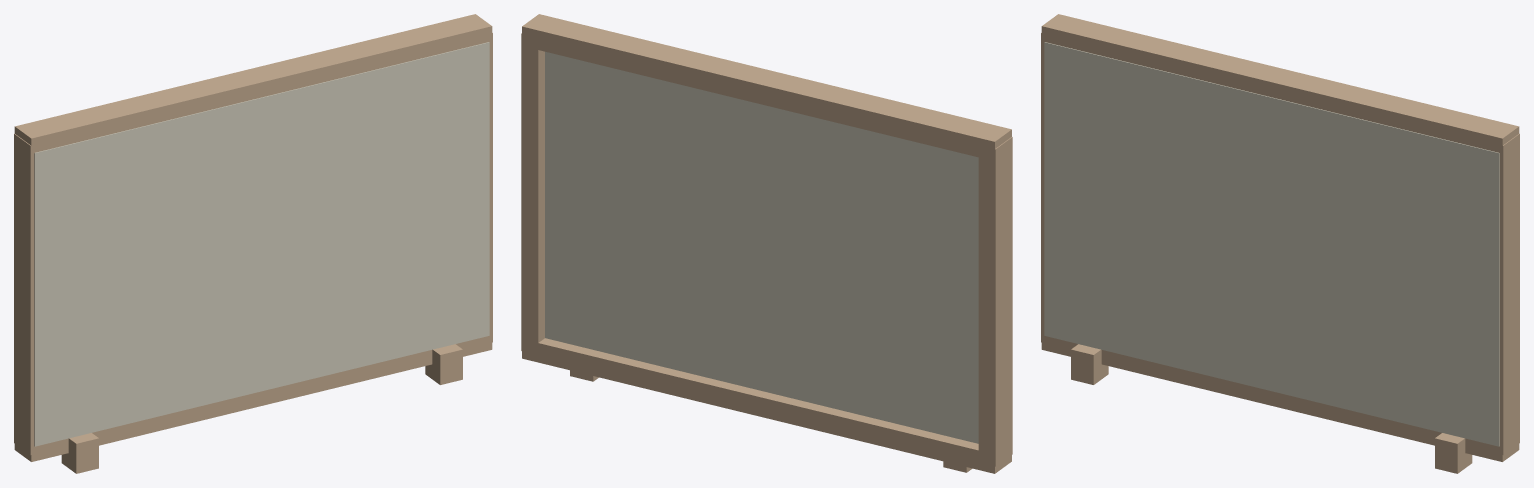
File: answer-sign.glb
3 renders of one model, left to right at view 1: azimuth 30°, elevation 25°; view 2: azimuth 150°, elevation 25°; view 3: azimuth 330°, elevation 25°, orthographic. The views are drawn at different scales.
Parts seen in each view (by area): view 1: world; view 2: world; view 3: world.
Part boxes in pixels (x1=…): world: x1=14, y1=14, x2=492, y2=473; world: x1=521, y1=14, x2=1012, y2=473; world: x1=1041, y1=14, x2=1519, y2=473.
Size of the model in its own units: 3.05 by 2.14 by 0.28.
